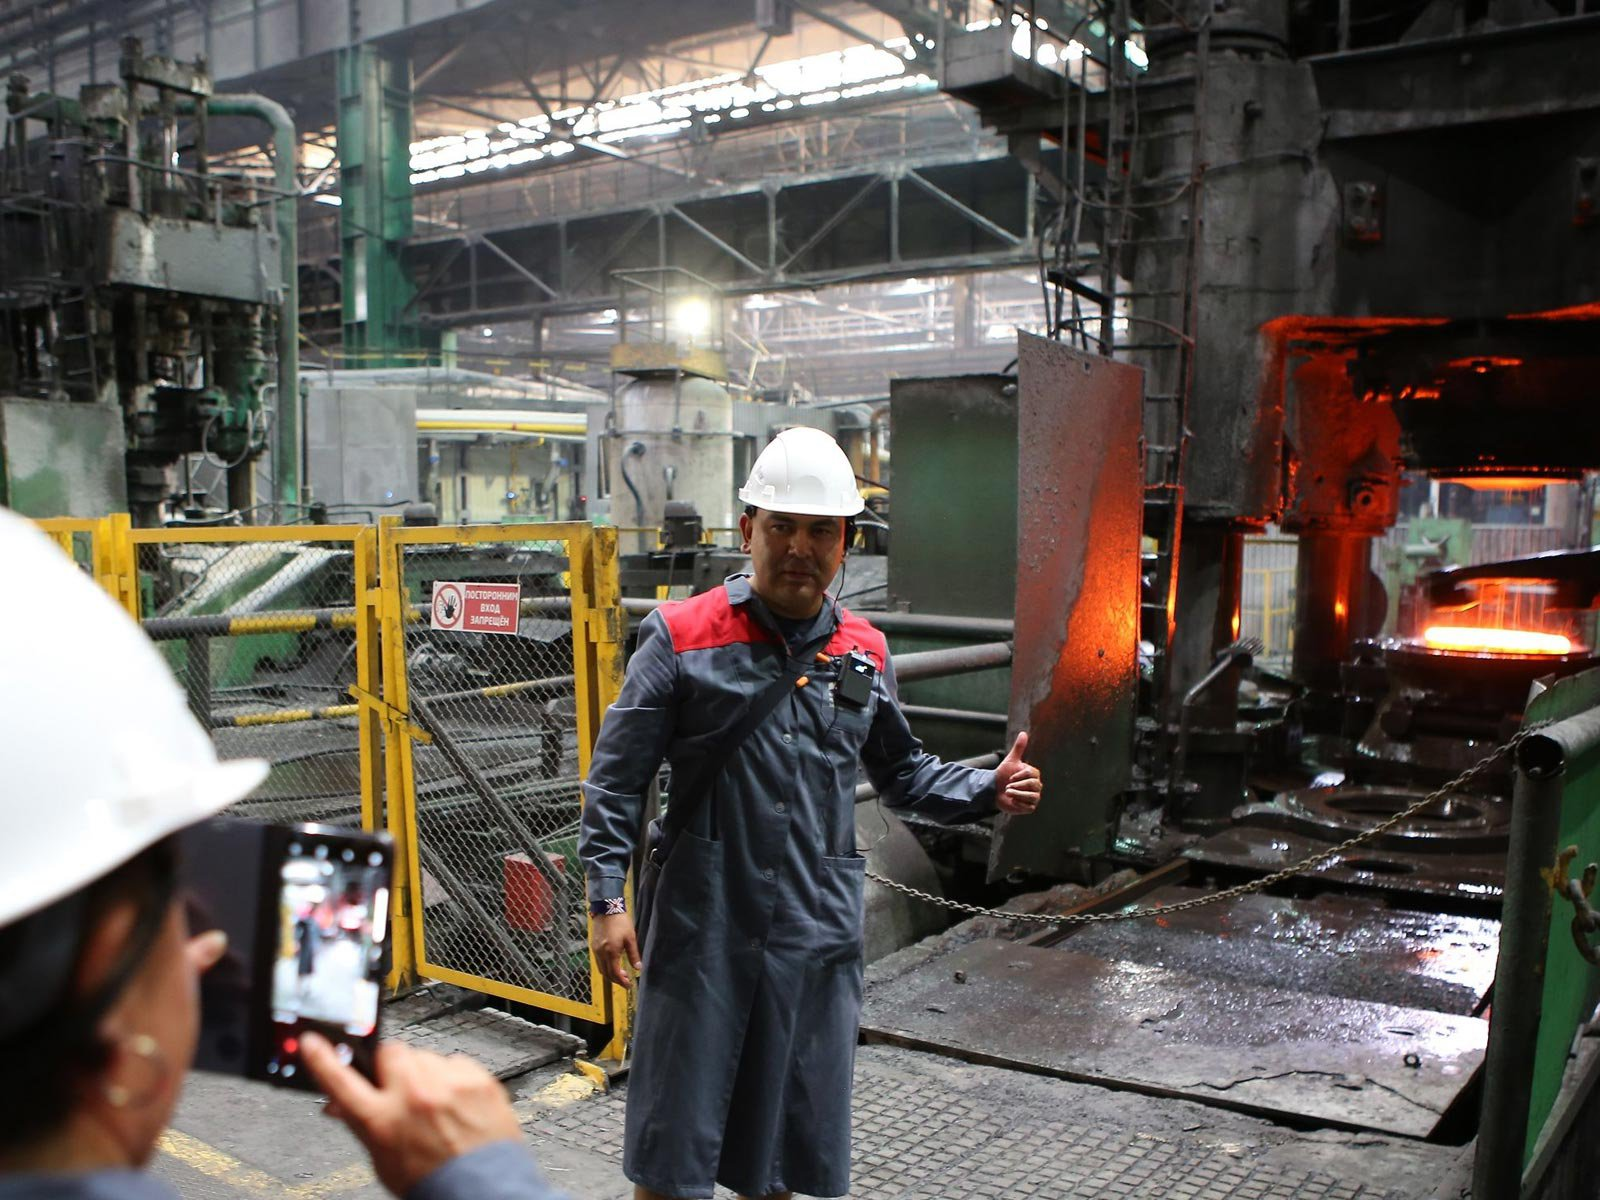person: (1, 505, 574, 1200), (578, 425, 1041, 1200)
